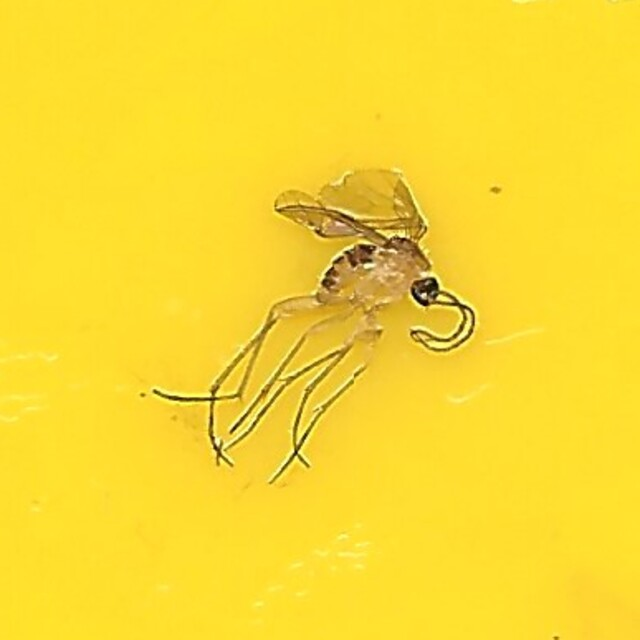Brachycera: (165, 163, 475, 477)
